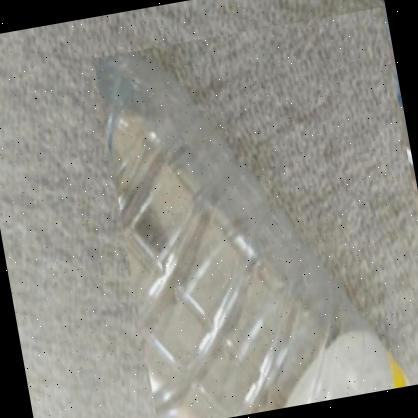bottle: (93, 7, 418, 418)
